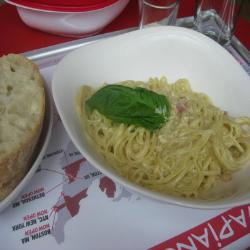bread: (1, 49, 55, 211)
carbonara: (72, 64, 243, 199)
